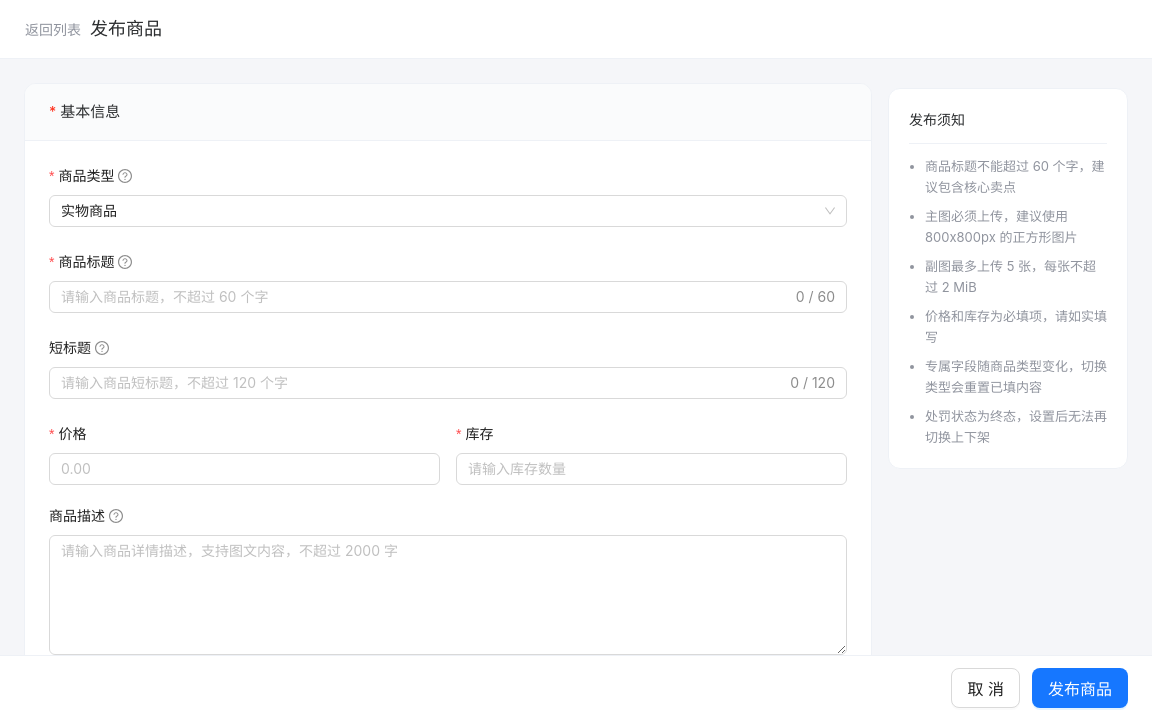
Test: ProductFormPage › 拒绝负价格并且不发送创建请求
The image size is (1152, 720).
Type "新商品" into the field labelled "商品标题" at (426,297), box [61, 286, 792, 308]
Type "新品" into the field labelled "短标题" at (424,383), box [61, 372, 786, 394]
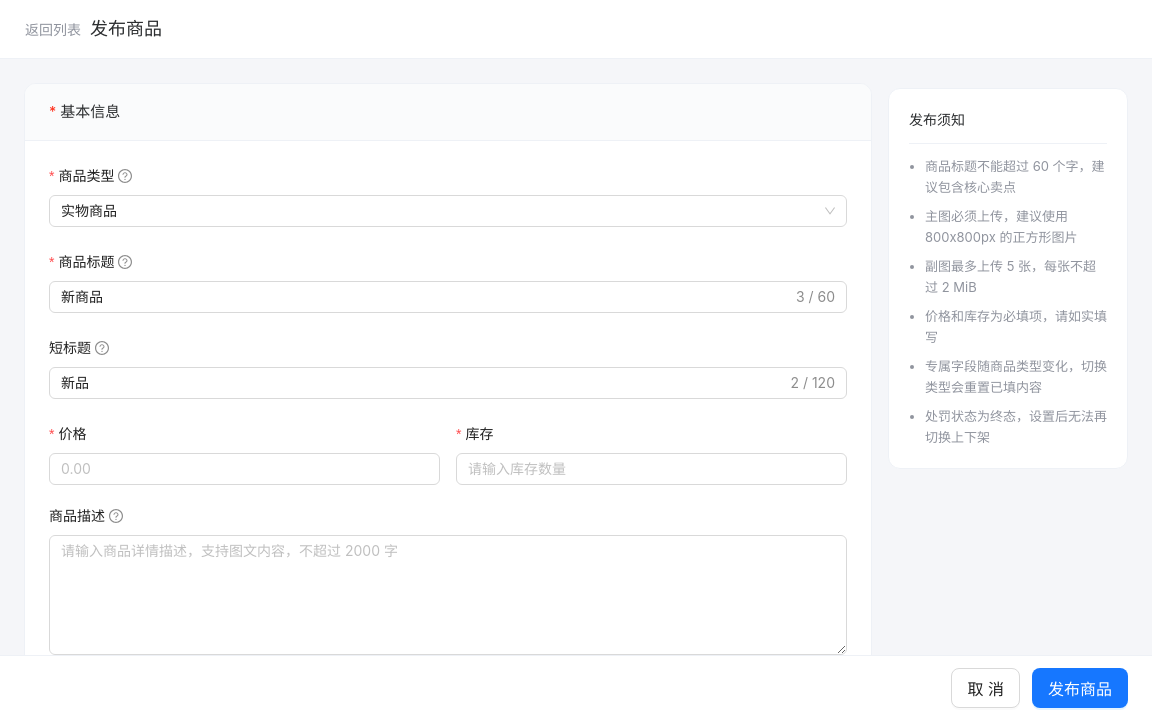
Type "19.90" into the field labelled "价格" at (244,469), box [49, 453, 440, 485]
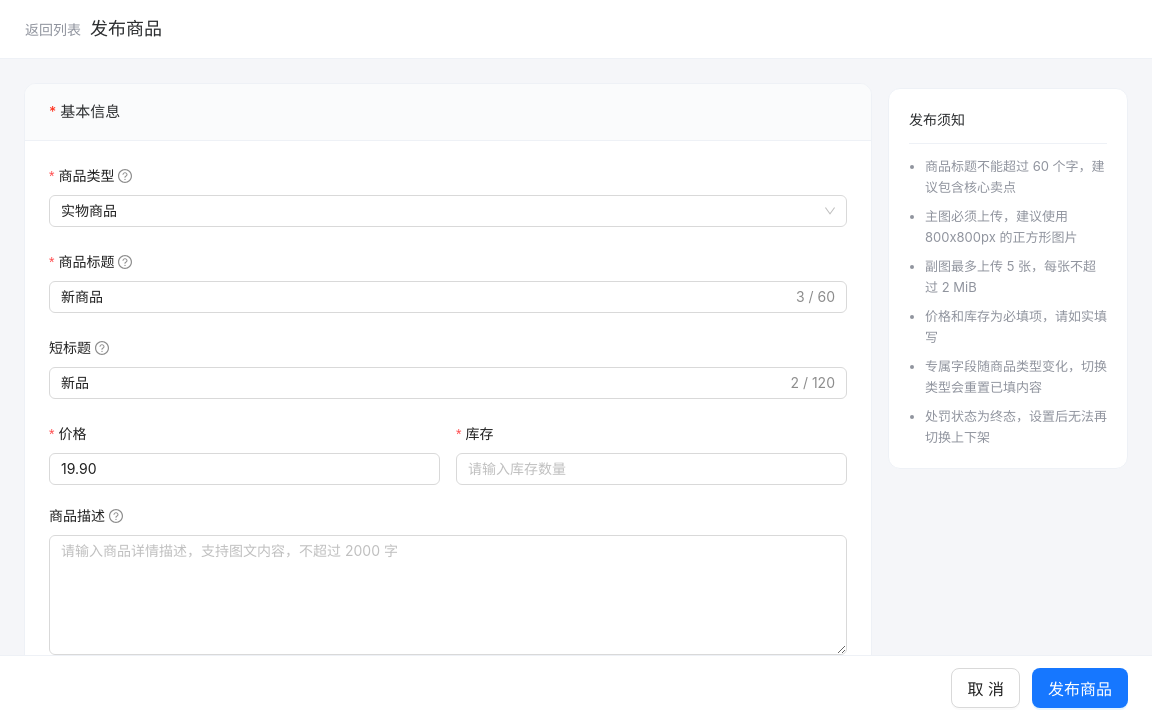
Type "5" into the number field labelled "库存" at (652,469), box [457, 454, 846, 484]
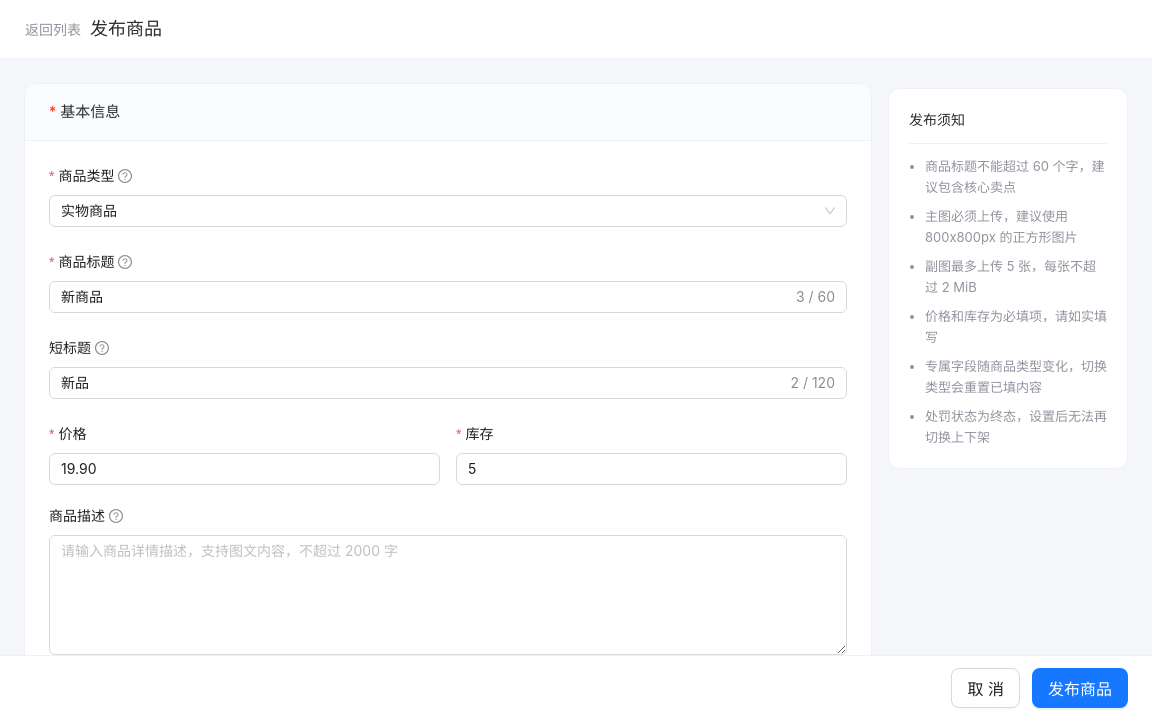
Type "描述" into the text box labelled "商品描述" at (448,595), box [50, 536, 846, 654]
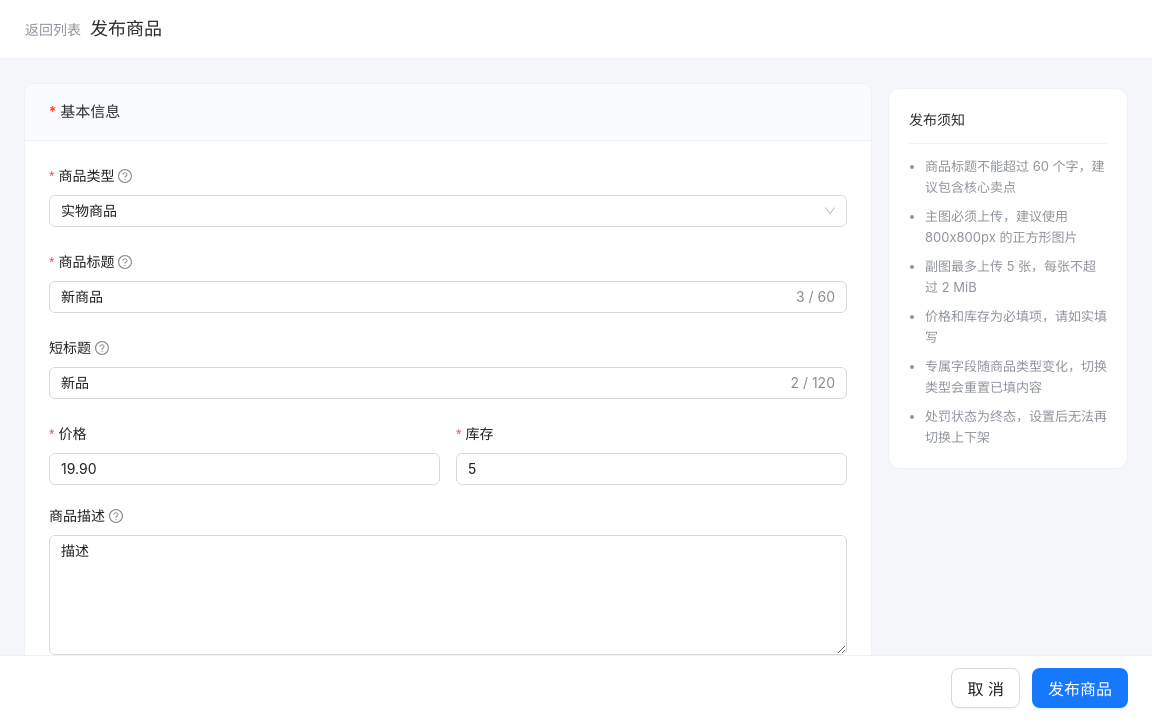
Replace the text in the field labelled "价格" with "-1" at (244,469), box [49, 453, 440, 485]
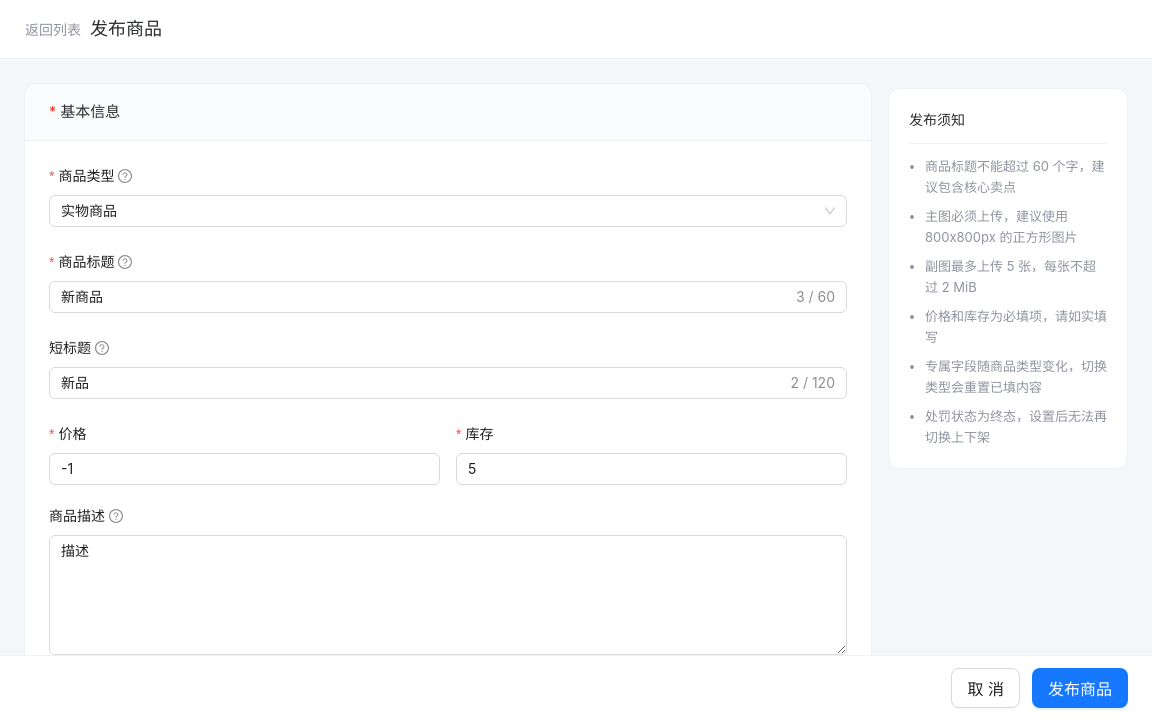
Click the button "发布商品" at (1080,688), box [1032, 668, 1128, 708]
(page scrolled)
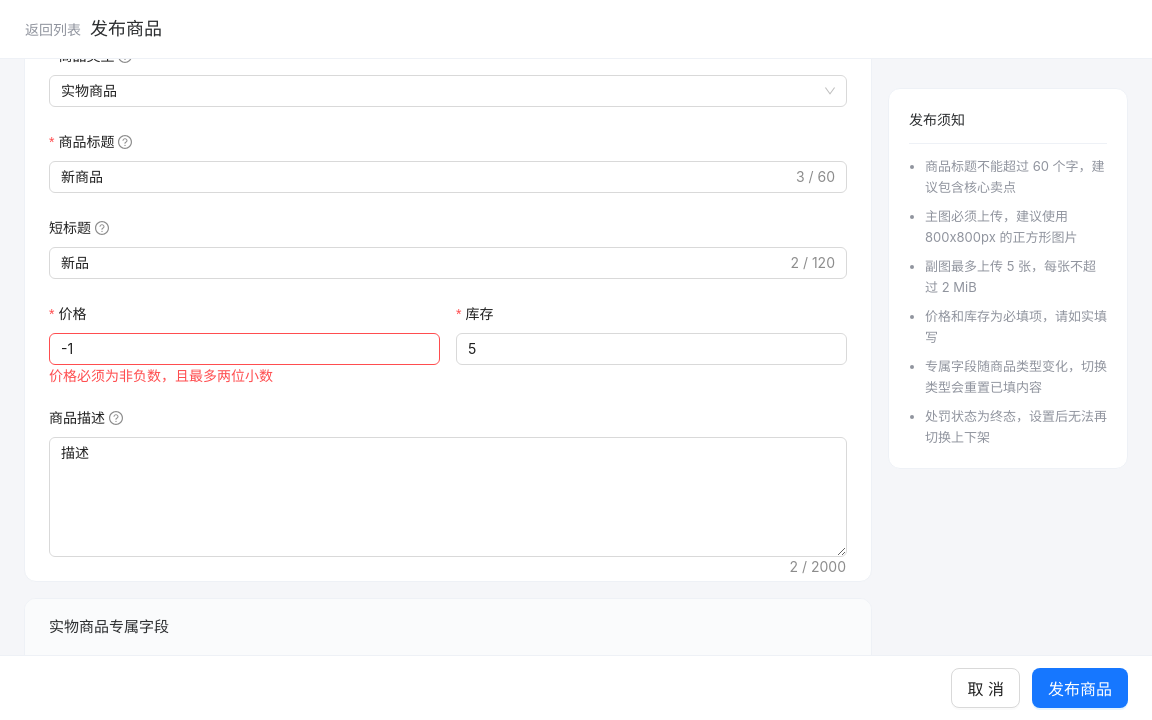
Expected: the text "价格必须为非负数，且最多两位小数" is shown, [49, 367, 273, 384]
